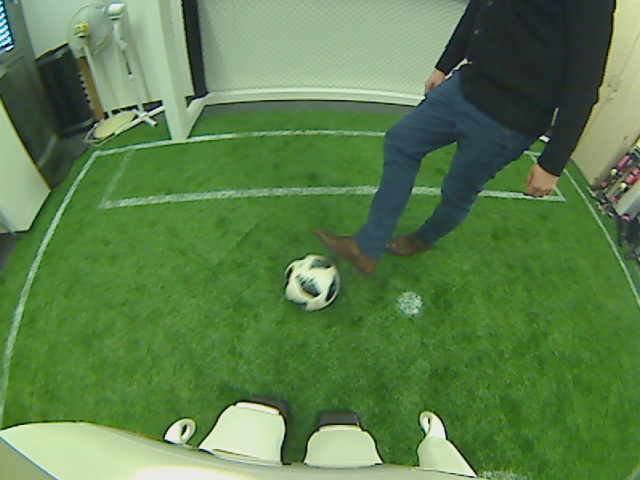ball: (283, 255, 340, 310)
